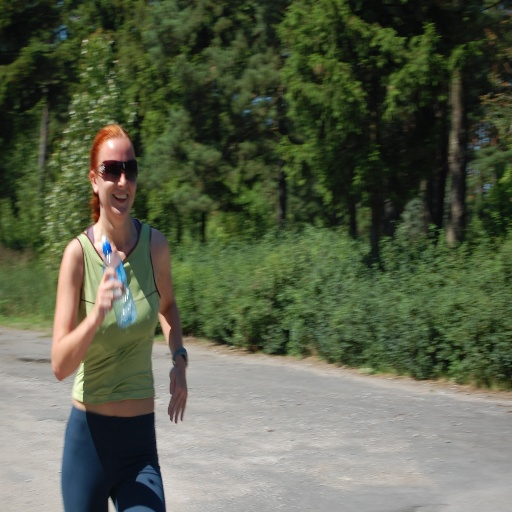hand: (86, 269, 126, 327), (167, 364, 188, 426)
